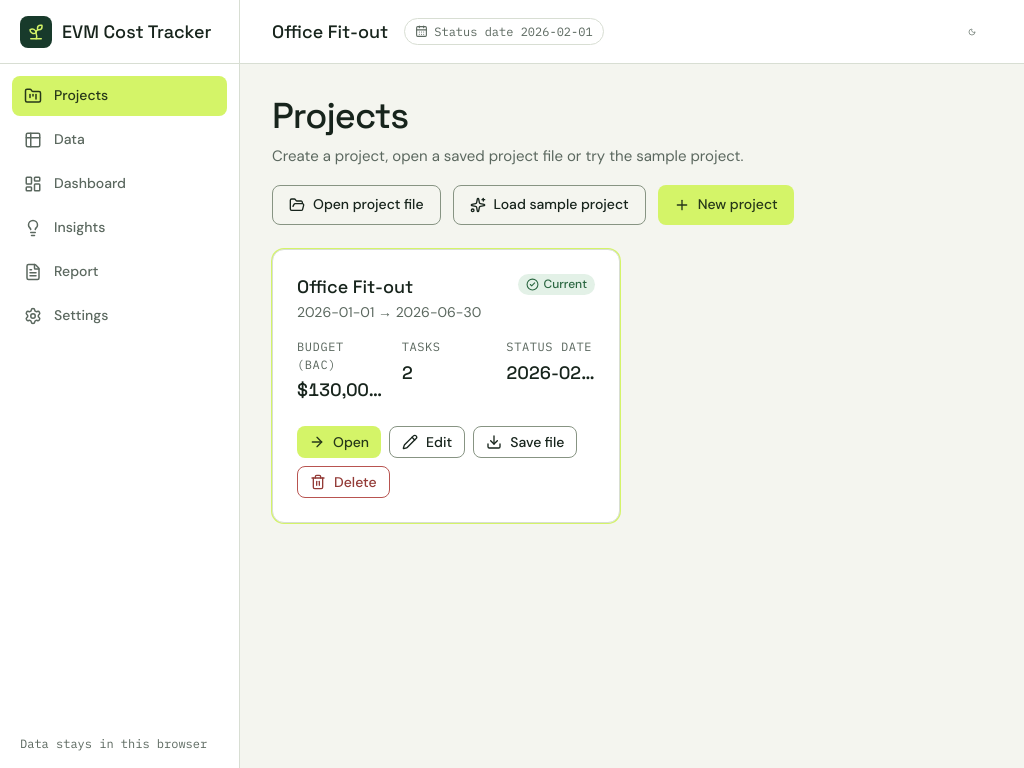
desktop platform (window.evmDesktop) › CT-PLAT-04 "Open project file" uses the native dialog and validates the file
Expected: the text with test id "current-project" reads "Office Fit-out", [272, 20, 388, 43]
Click the button "Open project file" at (356, 205), box [272, 185, 440, 225]
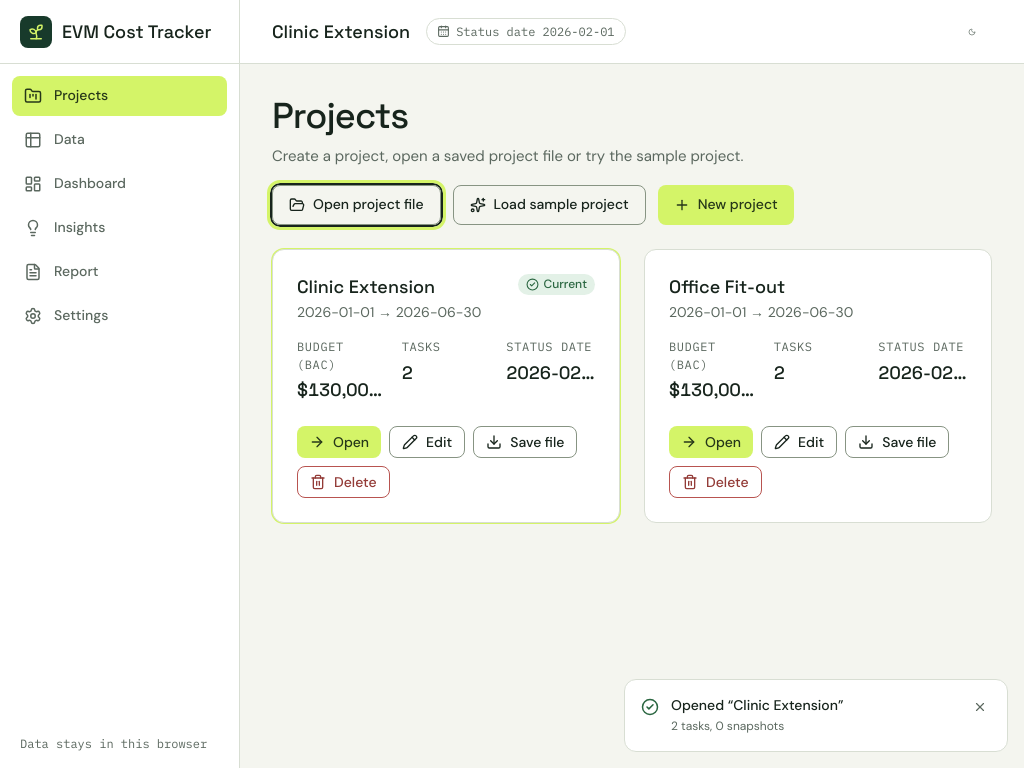
Now the text "Opened “Clinic Extension”" is shown, box [671, 696, 844, 714]
Click the button "Open project file" at (356, 205), box [272, 185, 440, 225]
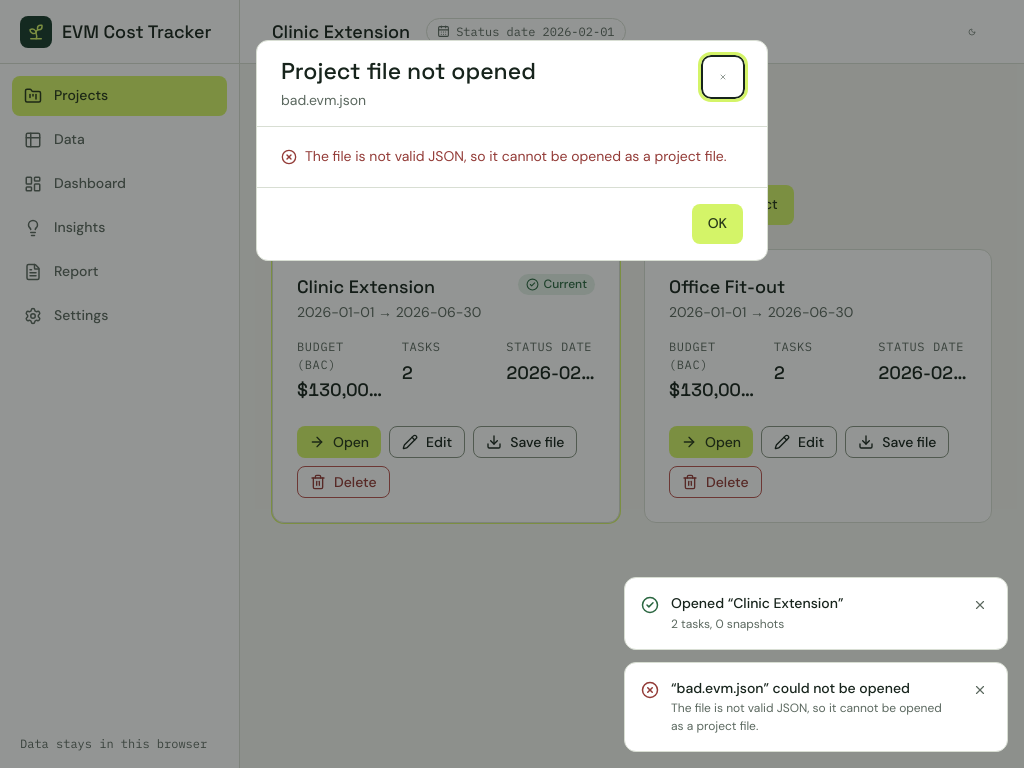
Now the text "not valid JSON" below "“bad.evm.json” could not be opened" is shown, box [671, 700, 942, 734]
